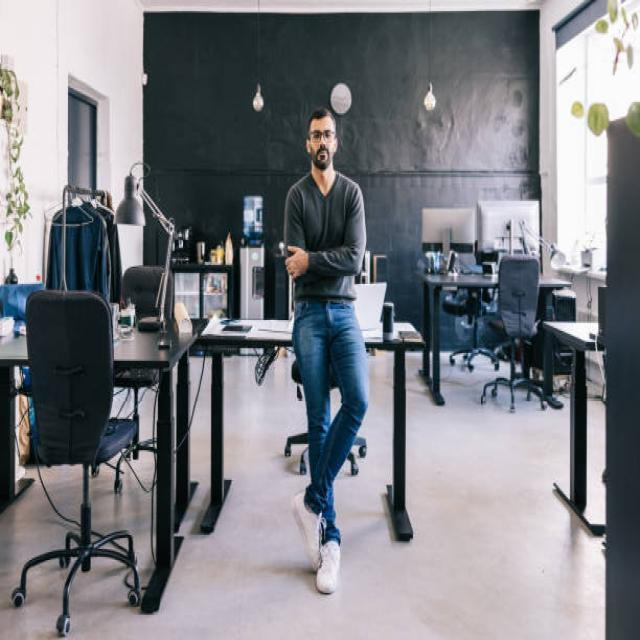Real human 2: (277, 96, 394, 612)
